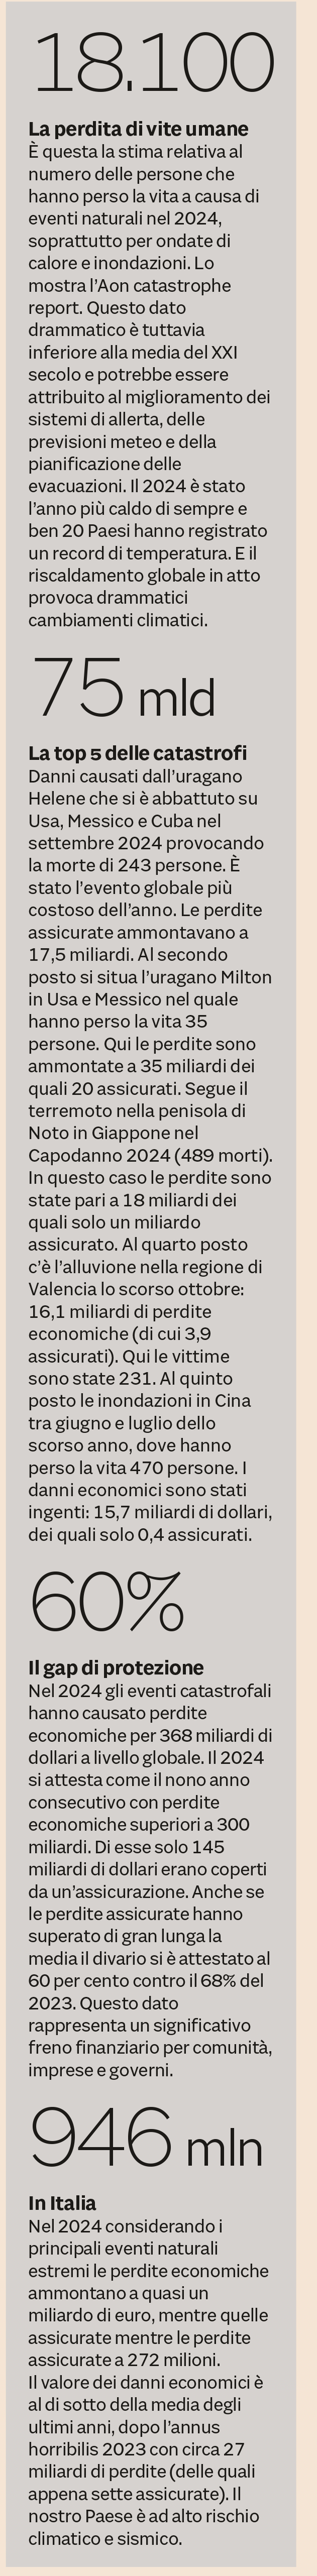scheda-numerone-1: (11, 634, 287, 1567), (8, 13, 287, 644), (13, 1554, 287, 2095), (11, 2086, 284, 2574)
